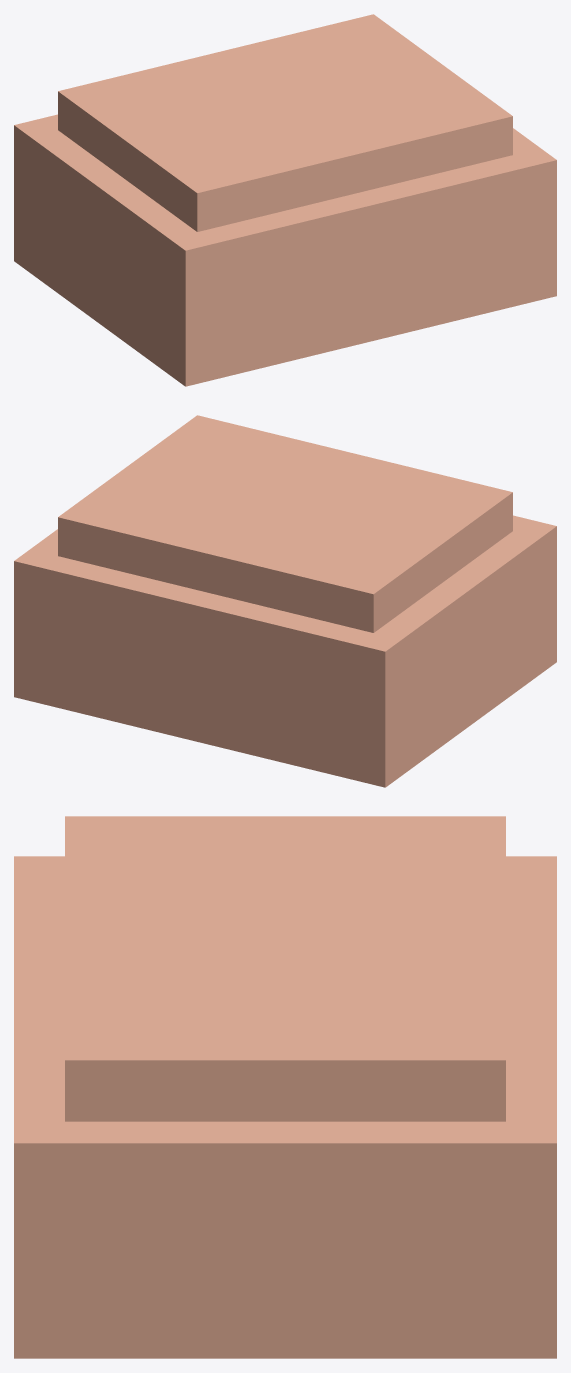
The model's file is product_basic_portion.glb.
3 views of the same model, one above another, from view 1: azimuth 30°, elevation 25°; view 2: azimuth 150°, elevation 25°; view 3: azimuth 270°, elevation 25° (orthographic). The views are drawn at different scales.
Parts seen in each view (by area): view 1: product.basic_portion; view 2: product.basic_portion; view 3: product.basic_portion.
Part boxes in pixels (left/top/right/bottom): product.basic_portion: left=14, top=14, right=556, bottom=386; product.basic_portion: left=14, top=415, right=556, bottom=787; product.basic_portion: left=14, top=816, right=556, bottom=1358.
Bounding box in the file's own units: 0.24 × 0.108 × 0.192.
